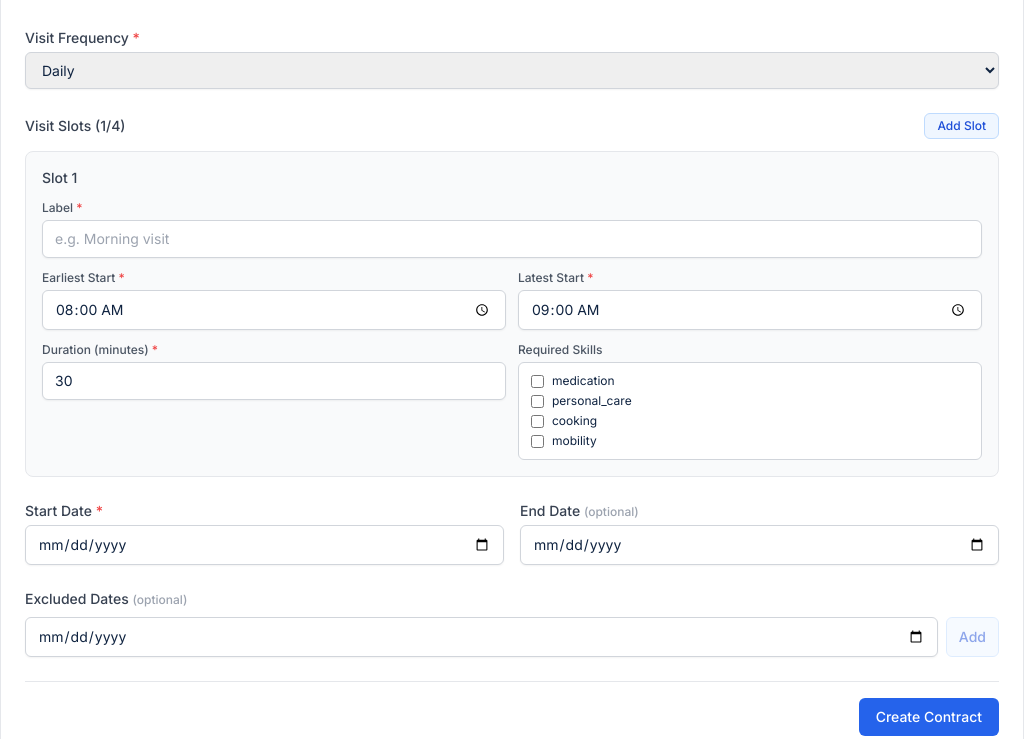
it: ContractForm › validates start date is required
(page scrolled)
Click the button "Create Contract" at {"x": 929, "y": 717}, box [859,698,999,736]
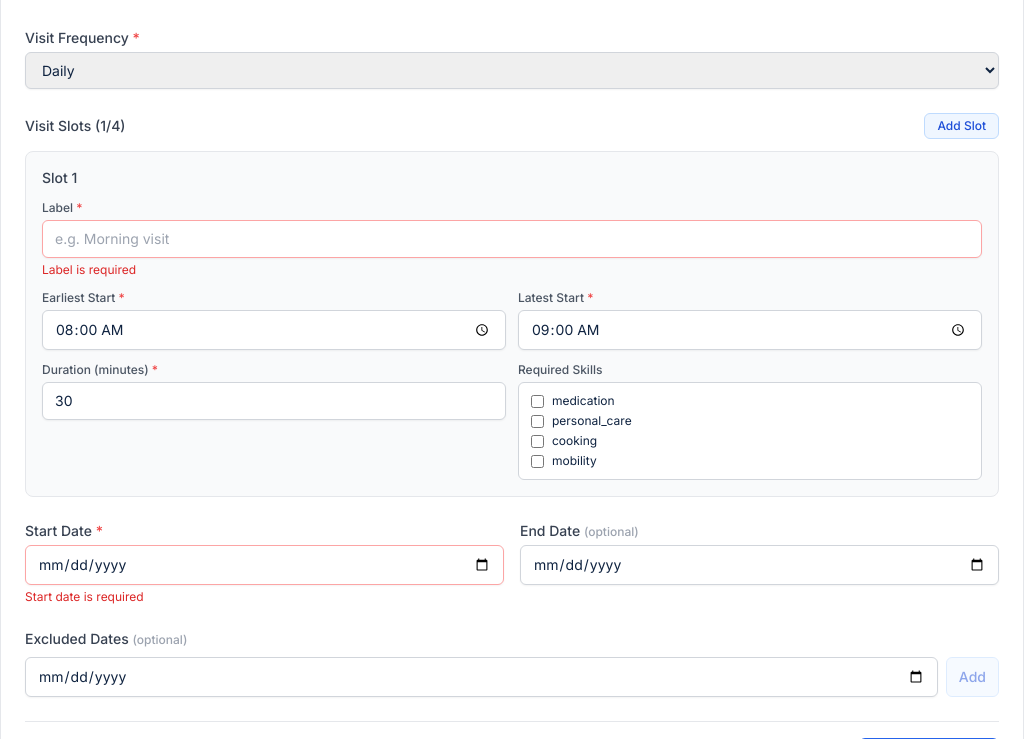
Now the text "Start date is required" is shown, box [25,589,144,604]
